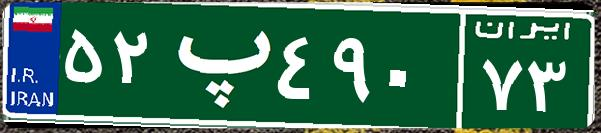0: (385, 28, 445, 110)
2: (110, 28, 158, 105)
3: (525, 38, 570, 115)
4: (273, 28, 330, 110)
5: (57, 26, 110, 107)
7: (475, 38, 525, 113)
9: (330, 28, 385, 110)
پ: (158, 15, 273, 115)
